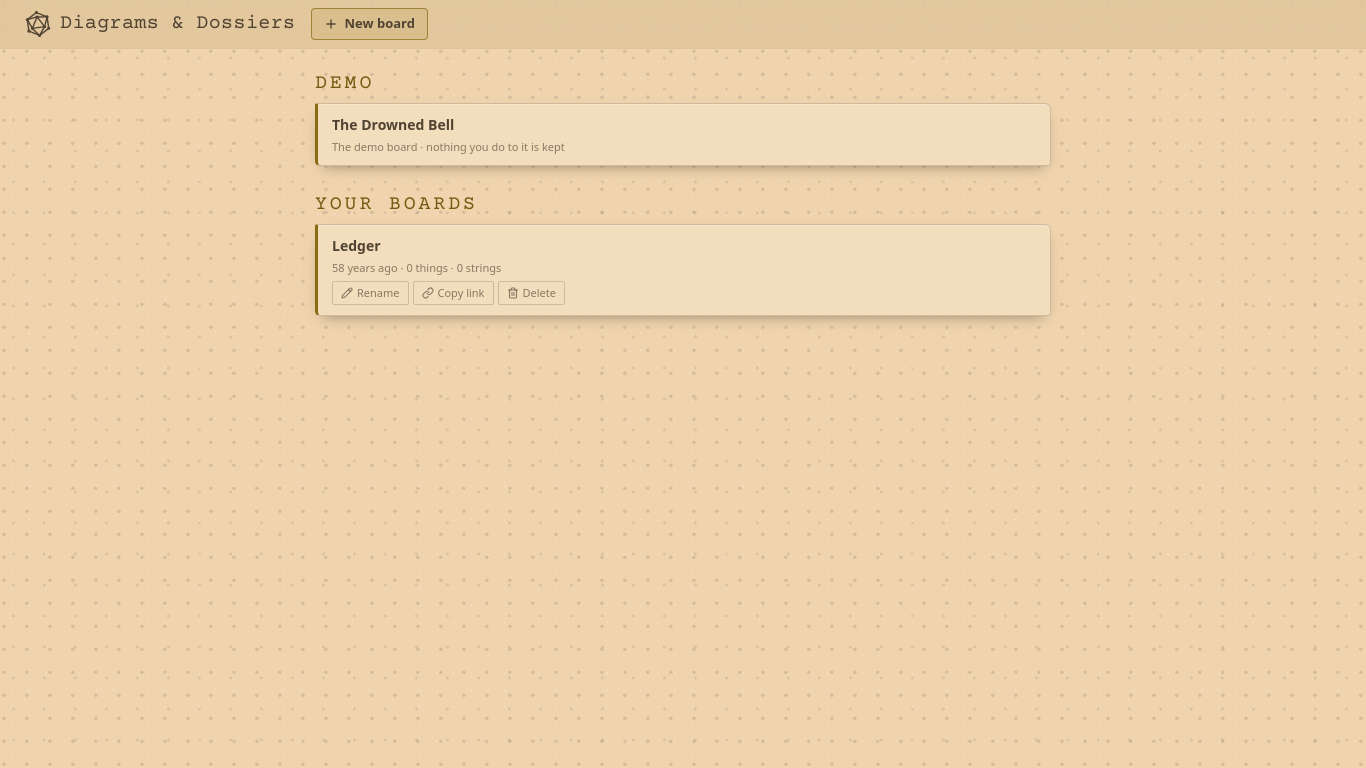
Test: App — the boards library › renames a board, and writes it down
This screenshot has width=1366, height=768.
Click the button "Rename" at (370, 293), box [332,280,408,305]
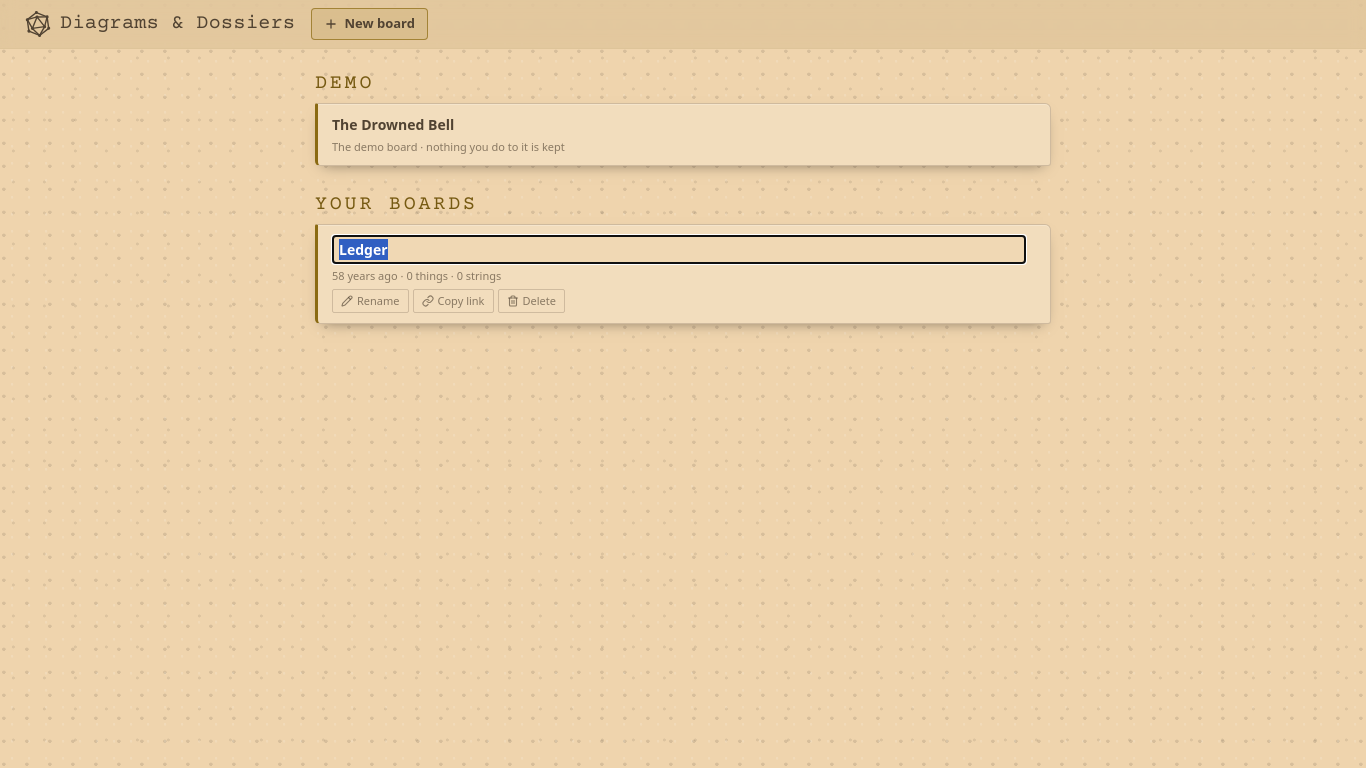
Replace the text in the field named "New name for Ledger" with "The Ledger" at (679, 250), box [332,235,1026,264]
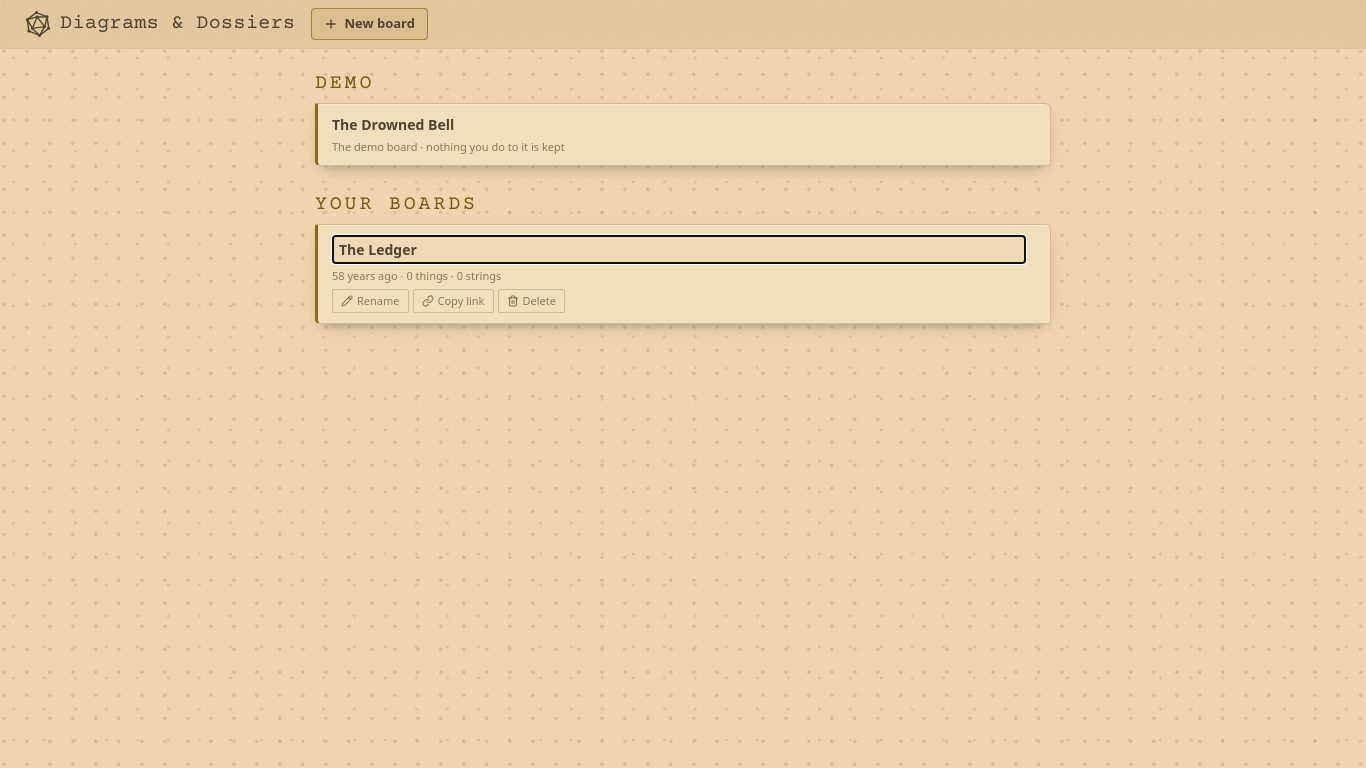
Press Enter in the field named "New name for Ledger", box [332,235,1026,264]
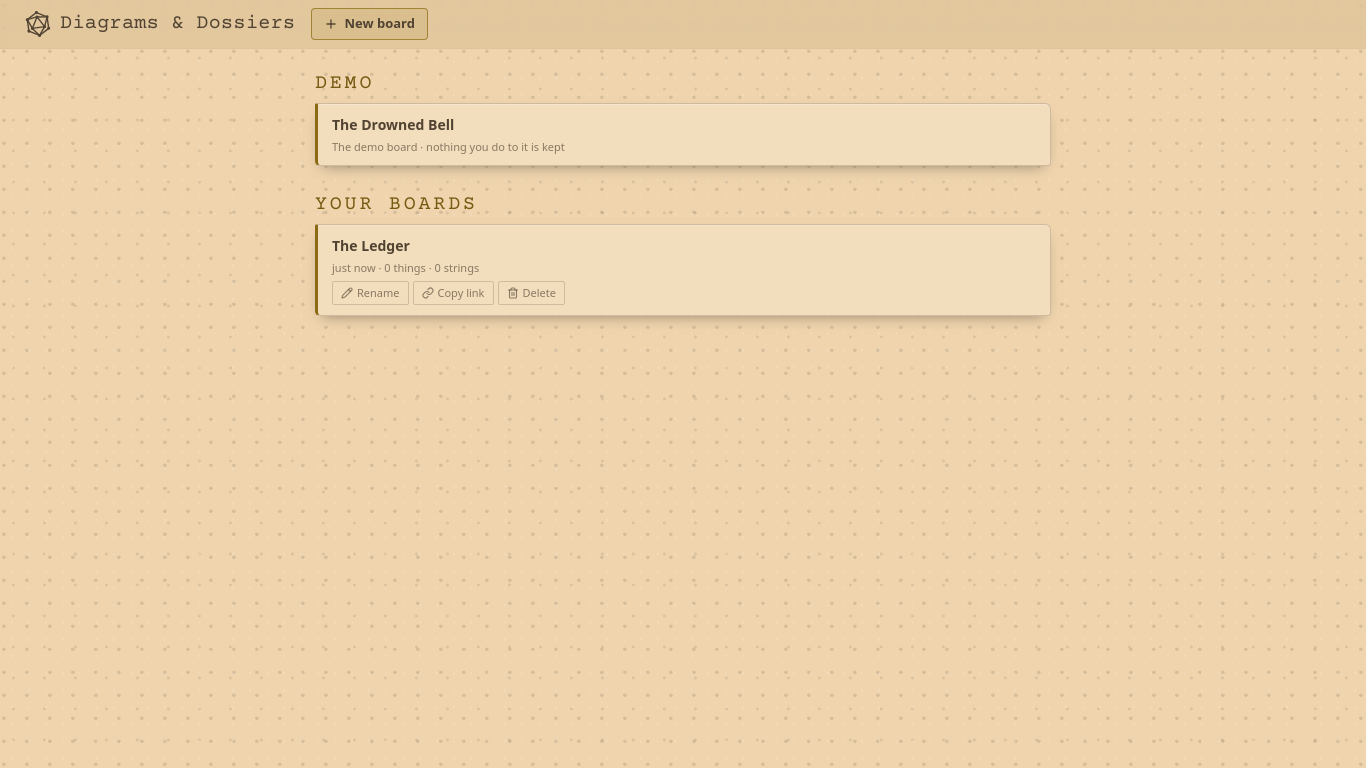
Check: the button "The Ledger" is shown, box [332,235,410,256]
